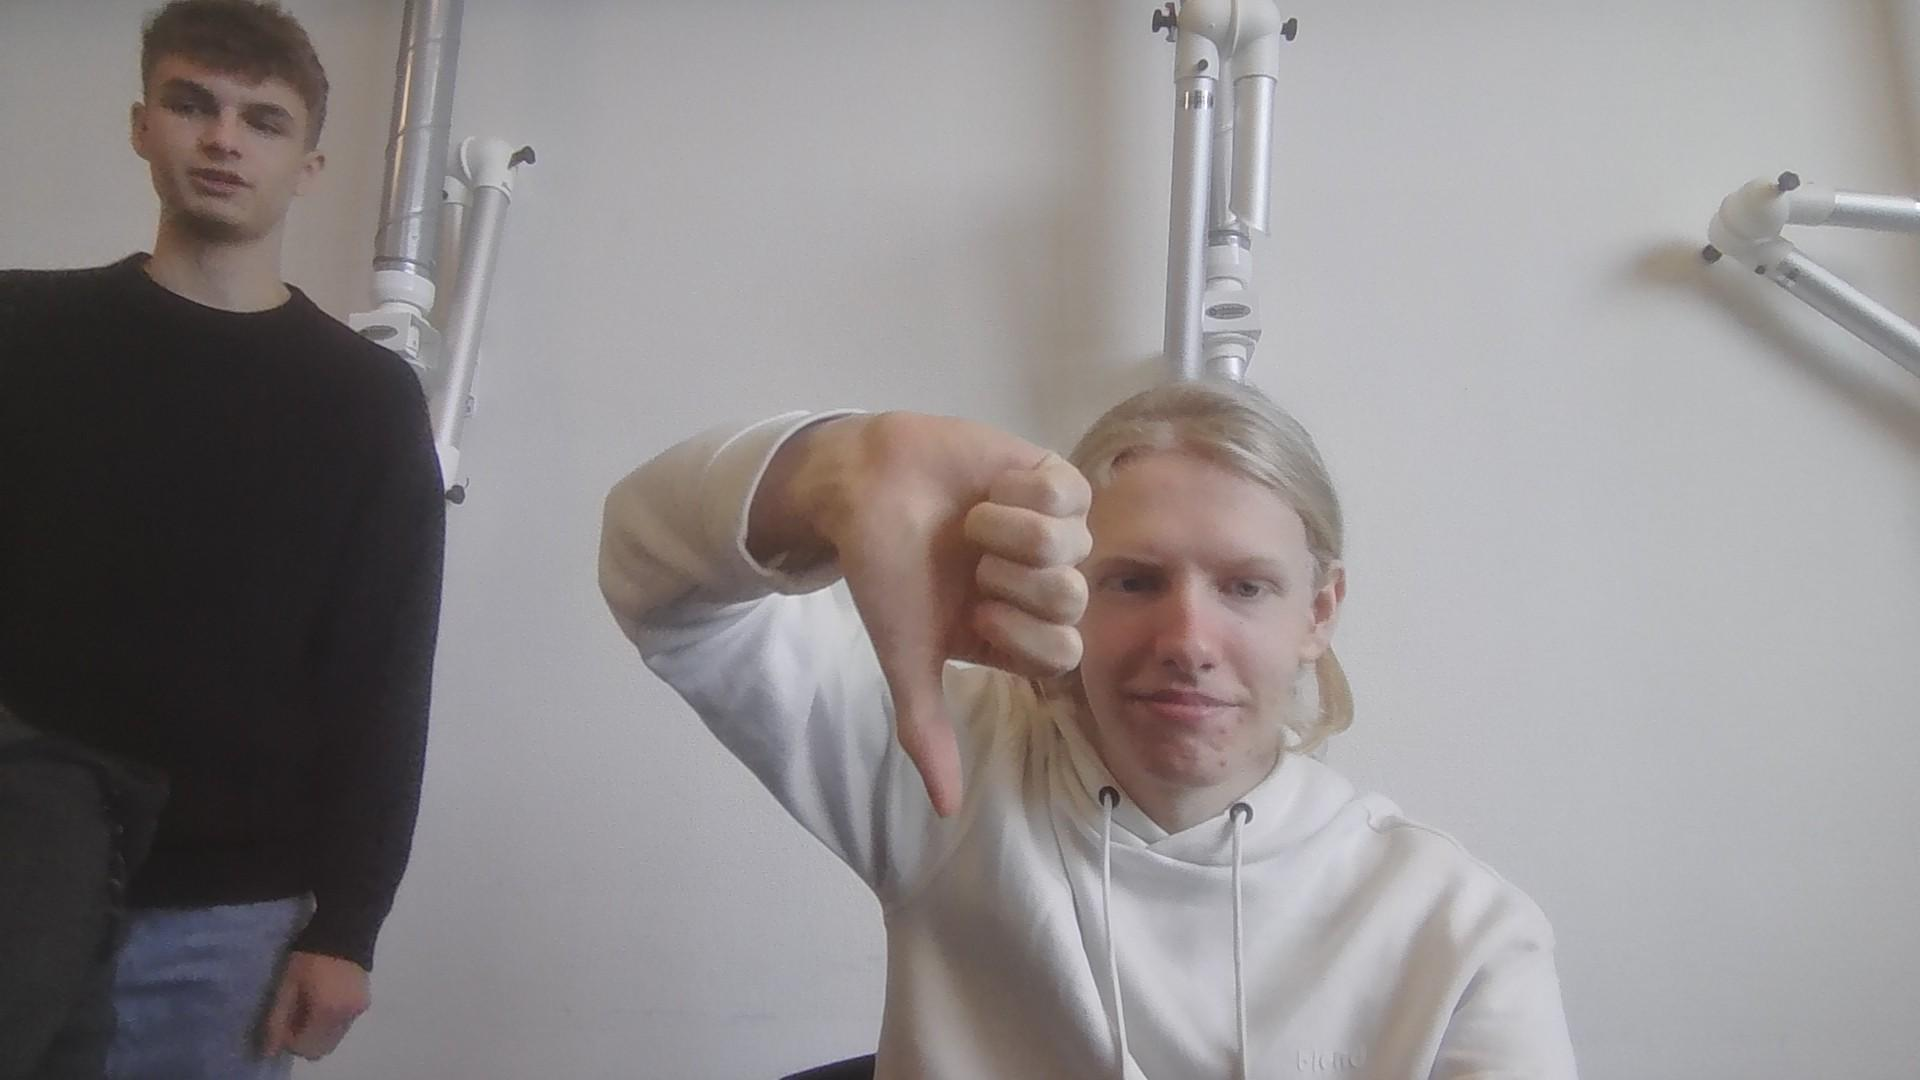thumbs down: (807, 418, 1097, 816)
